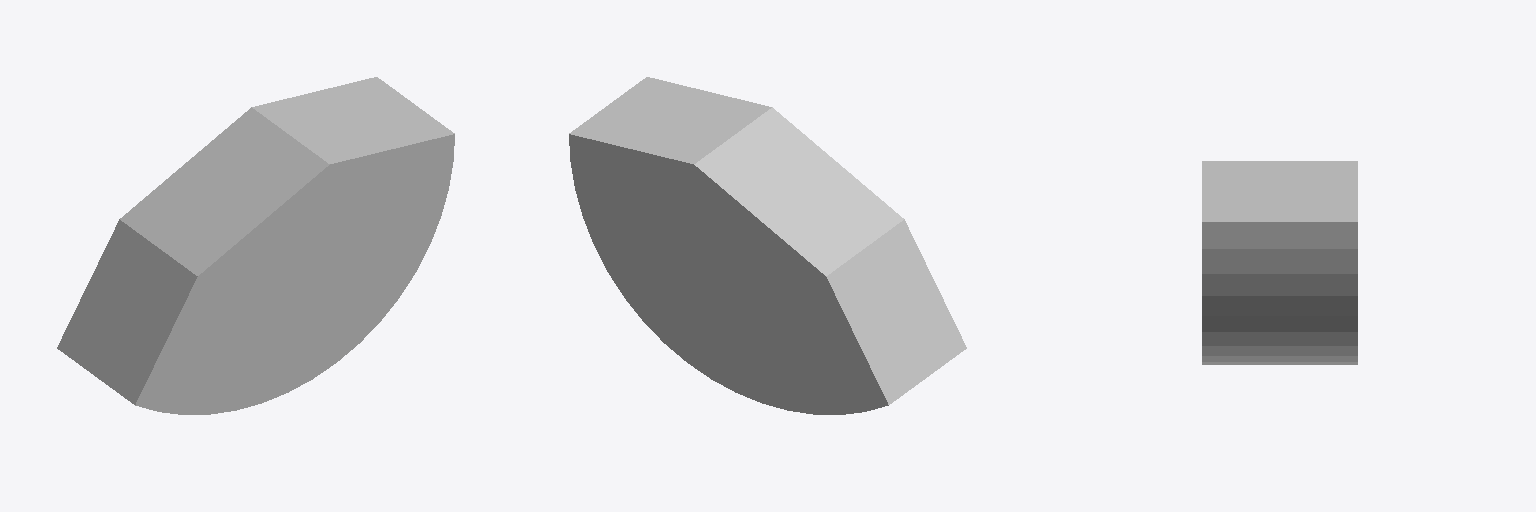
File: round_triangle_hole_1.obj
3 views of the same model, side by side, from view 1: azimuth 30°, elevation 25°; view 2: azimuth 150°, elevation 25°; view 3: azimuth 270°, elevation 25° (orthographic).
Visible parts, largest first — view 1: Body130; view 2: Body130; view 3: Body130.
Boxes of the visible parts, <box> form: Body130: <box>57,77,454,414</box>; Body130: <box>569,77,966,414</box>; Body130: <box>1202,161,1357,364</box>.
Bounding box in the file's own units: 0.0945 × 0.063 × 0.04.